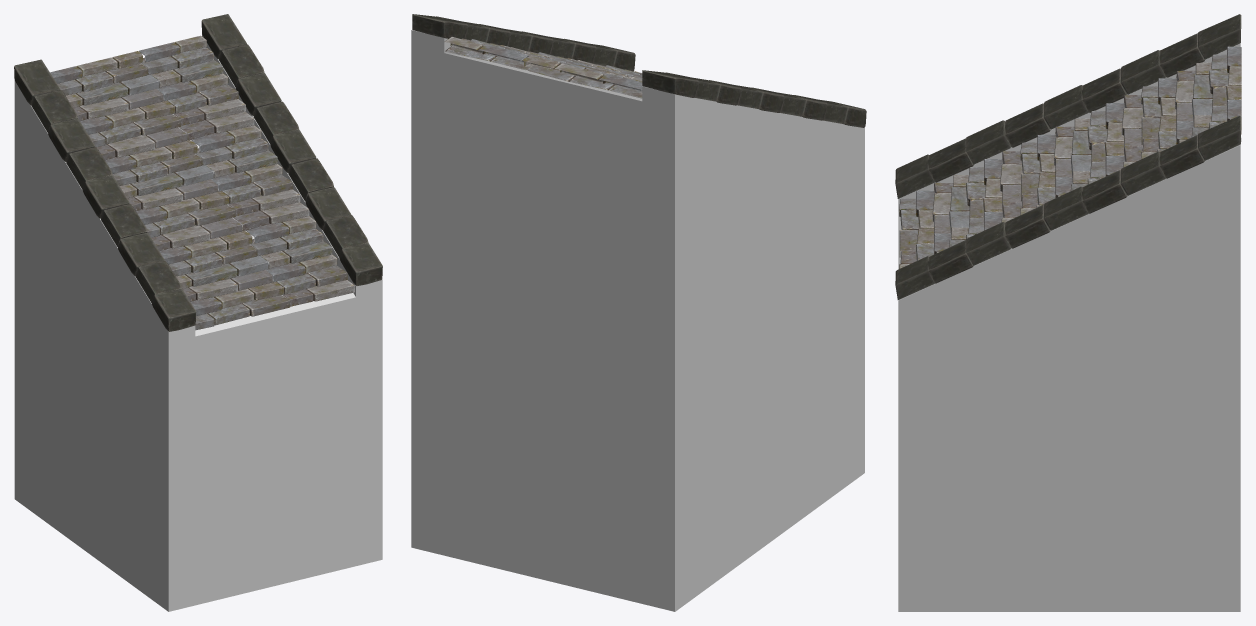
3 views of the same model, side by side, from view 1: azimuth 30°, elevation 25°; view 2: azimuth 150°, elevation 25°; view 3: azimuth 270°, elevation 25° (orthographic). The views are drawn at different scales.
Visible parts, largest first — view 1: SM_Dowdun_Walkway_Steps_01_LOD0; view 2: SM_Dowdun_Walkway_Steps_01_LOD0; view 3: SM_Dowdun_Walkway_Steps_01_LOD0.
Boxes of the visible parts, x1,y1,x2,y2 form: SM_Dowdun_Walkway_Steps_01_LOD0: [14, 14, 382, 611]; SM_Dowdun_Walkway_Steps_01_LOD0: [411, 14, 866, 611]; SM_Dowdun_Walkway_Steps_01_LOD0: [895, 14, 1241, 611].
Size of the model in its own units: 8.08 by 15.49 by 10.08.
Materials: 3 (2 with a texture image).
